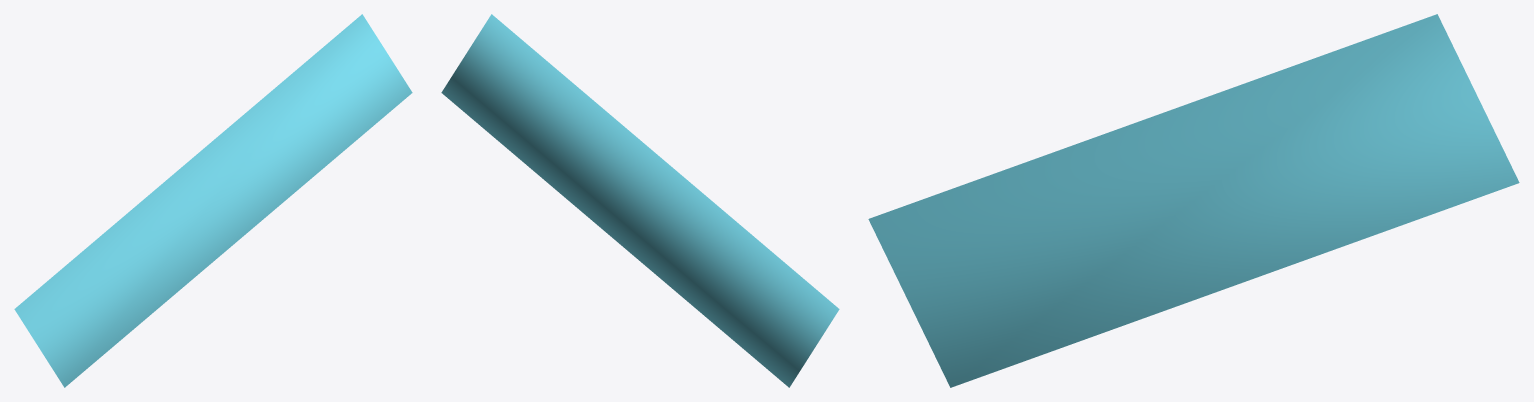
Rendered from gltf-normal-interpolation.gltf.
3 renders of one model, left to right at view 1: azimuth 30°, elevation 25°; view 2: azimuth 150°, elevation 25°; view 3: azimuth 330°, elevation 25°, orthographic. The views are drawn at different scales.
Size of the model in its own units: 3.96 by 2.87 by 0.
